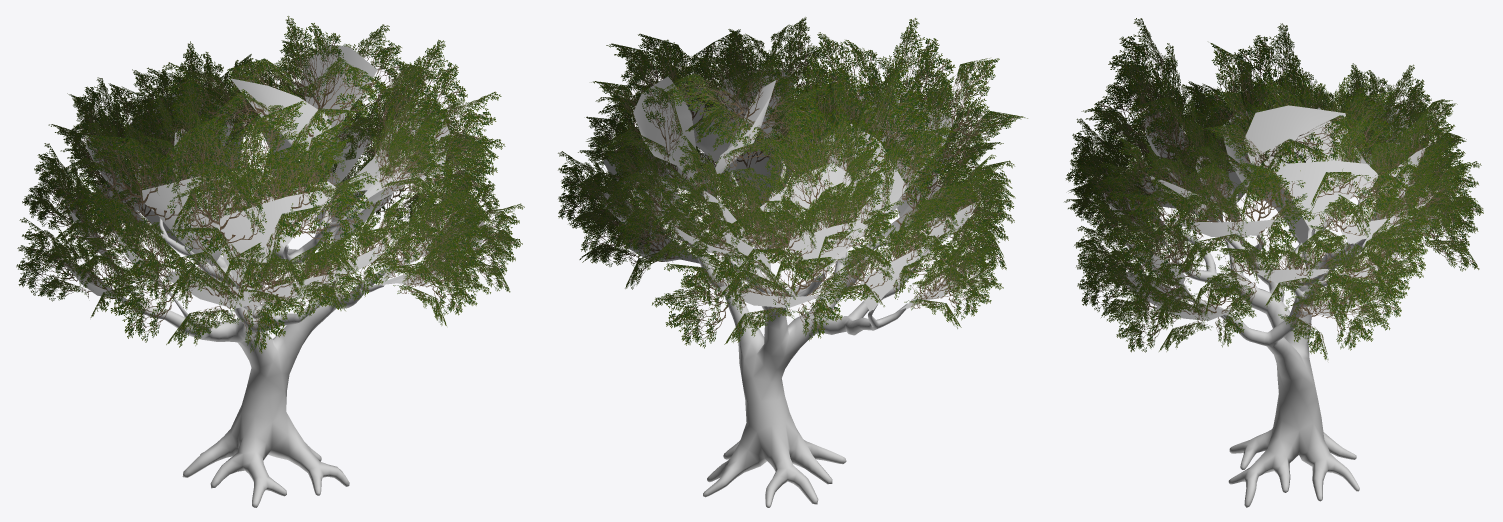
The model's file is SM_Tree_Medium_01a.fbx.
3 views of the same model, side by side, from view 1: azimuth 30°, elevation 25°; view 2: azimuth 150°, elevation 25°; view 3: azimuth 270°, elevation 25° (orthographic). The views are drawn at different scales.
Visible parts, largest first — view 1: SM_Tree_Medium_01a_LOD0; view 2: SM_Tree_Medium_01a_LOD0; view 3: SM_Tree_Medium_01a_LOD0.
Boxes of the visible parts, x1,y1,x2,y2 form: SM_Tree_Medium_01a_LOD0: (16,16,524,507); SM_Tree_Medium_01a_LOD0: (558,17,1027,507); SM_Tree_Medium_01a_LOD0: (1064,18,1483,507).
Size of the model in its own units: 1572 by 1428 by 1476.
